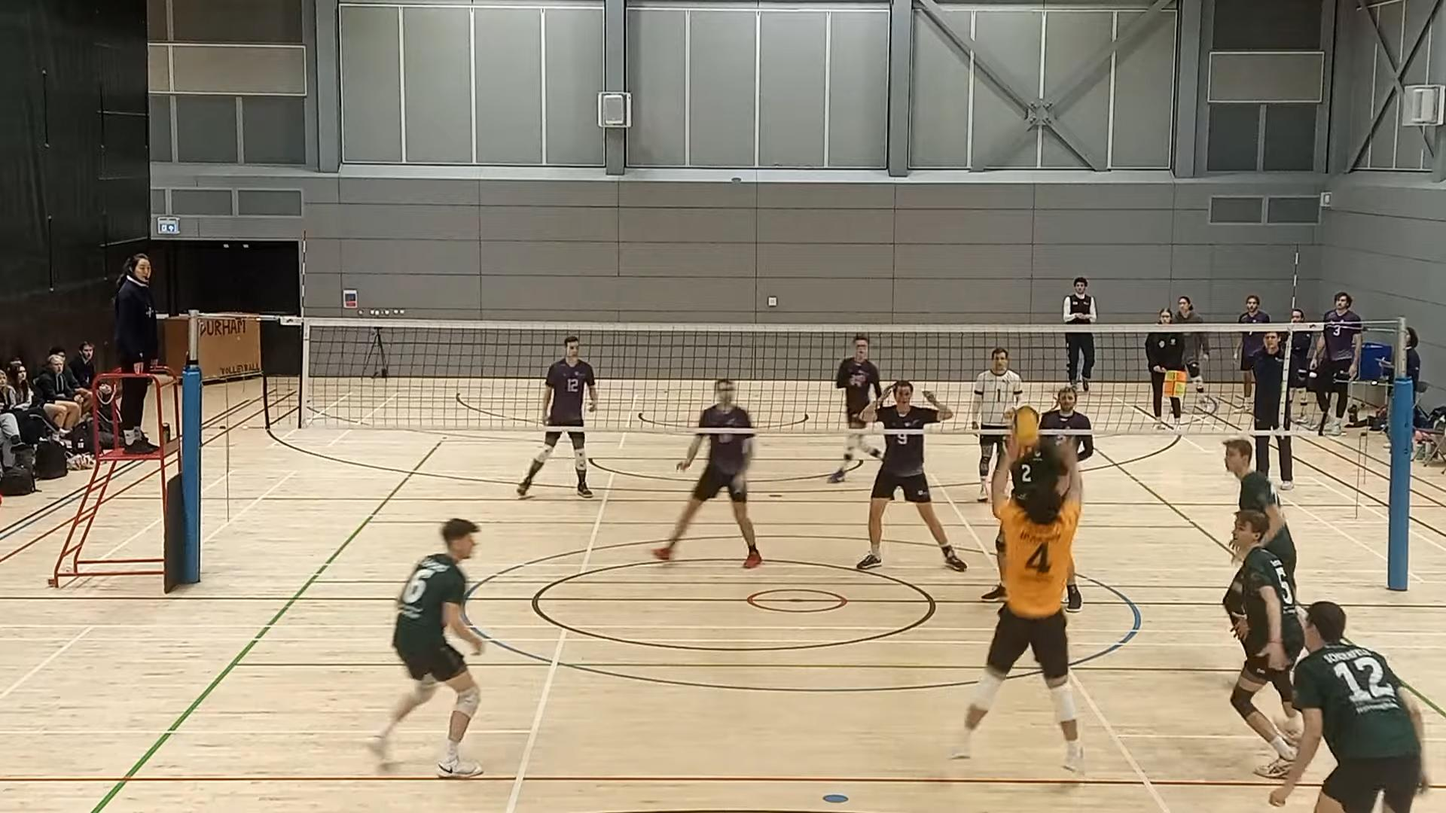Player: (1270, 601, 1428, 812), (370, 519, 482, 778), (1222, 510, 1303, 778), (856, 381, 966, 571), (654, 379, 761, 568), (517, 336, 597, 497), (1225, 439, 1296, 587), (829, 333, 882, 483), (972, 347, 1022, 501), (1039, 386, 1094, 462), (1039, 386, 1094, 461)
Receive: (951, 435, 1092, 780)
ball: (1005, 404, 1045, 446)
